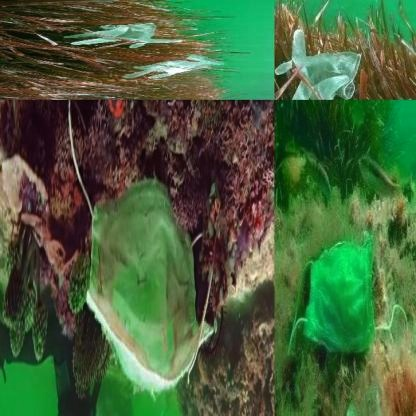Mask: (85, 175, 215, 396), (285, 239, 410, 359)
glove: (274, 24, 364, 99), (59, 22, 182, 51), (120, 54, 232, 81)
